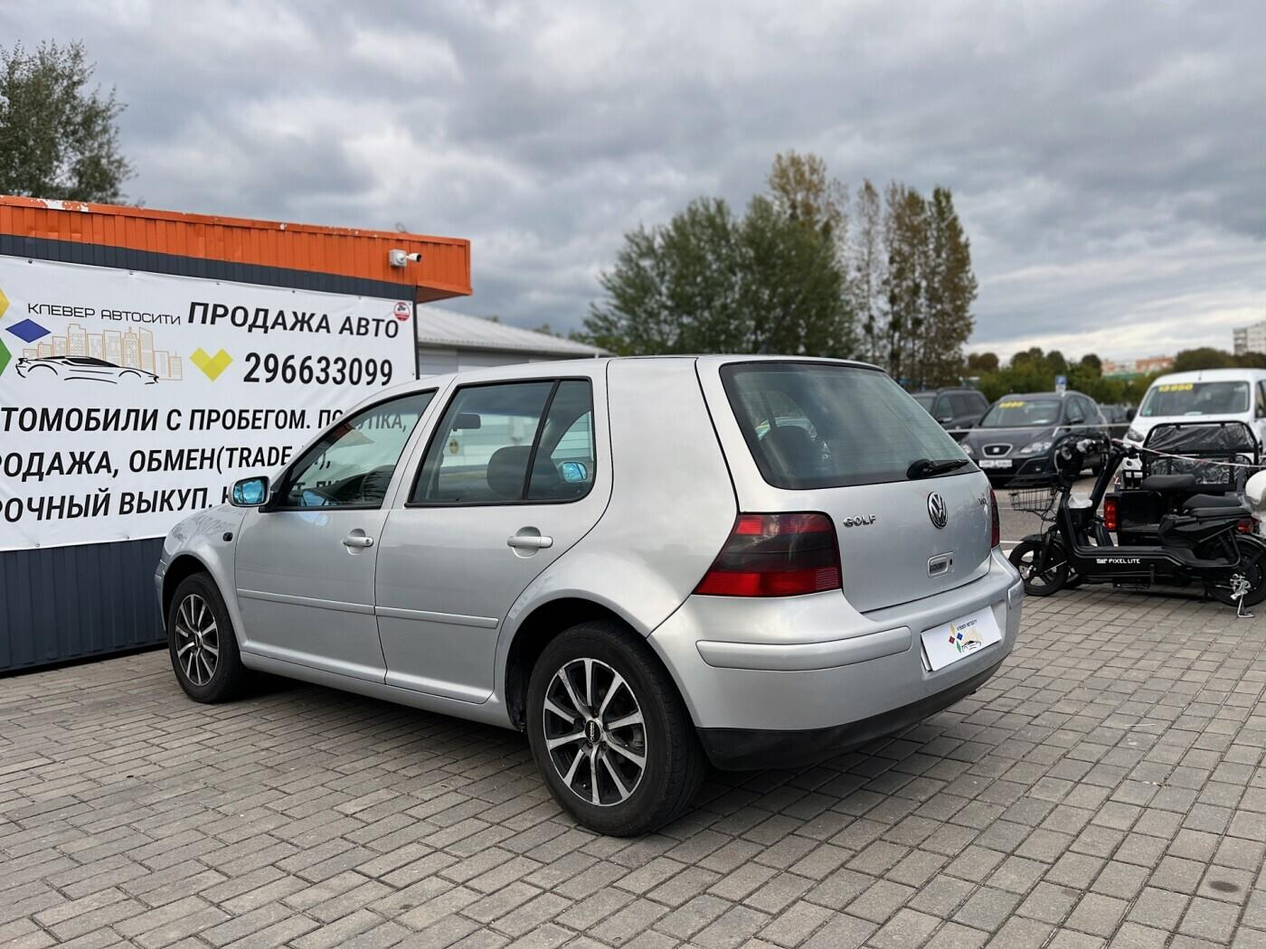Golf_1997-2006: (152, 349, 1031, 828)
